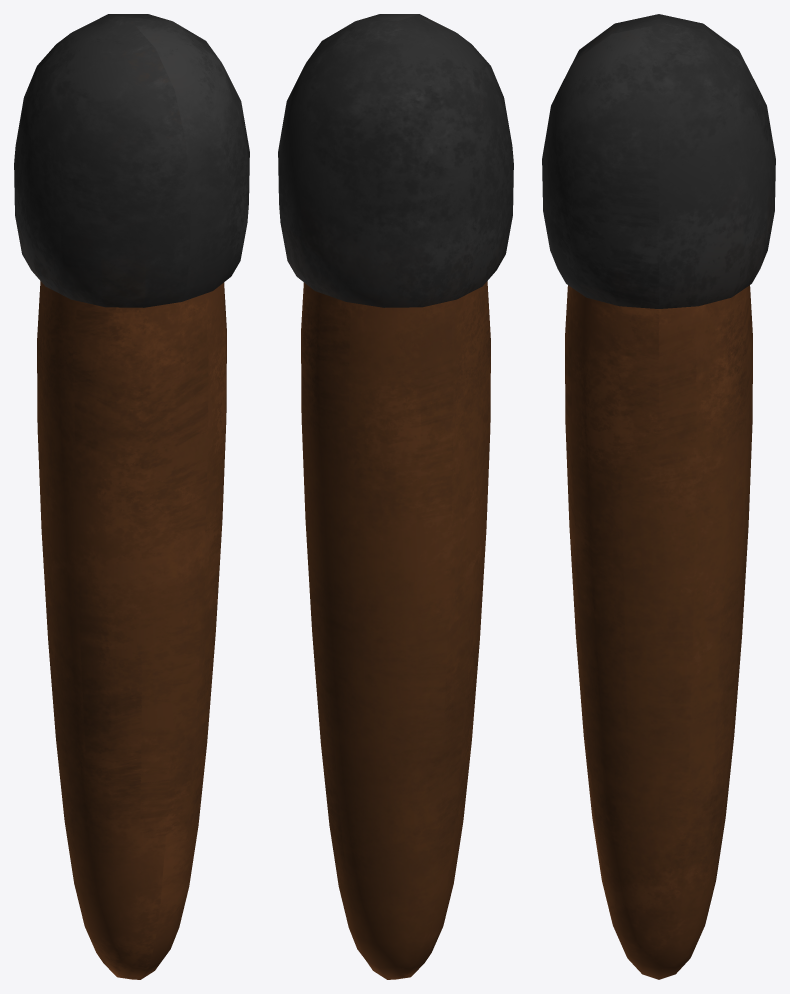
File: torch 1.fbx
3 views of the same model, side by side, from view 1: azimuth 30°, elevation 25°; view 2: azimuth 150°, elevation 25°; view 3: azimuth 270°, elevation 25° (orthographic).
Visible parts, largest first — view 1: torch_base, torch_flame; view 2: torch_base, torch_flame; view 3: torch_base, torch_flame.
Boxes of the visible parts, left/top/right/bottom form: torch_base: left=37, top=281, right=226, bottom=979; torch_flame: left=14, top=14, right=249, bottom=307; torch_base: left=301, top=281, right=490, bottom=979; torch_flame: left=278, top=14, right=513, bottom=307; torch_base: left=565, top=285, right=752, bottom=979; torch_flame: left=542, top=14, right=775, bottom=308.
Bounding box in the file's own units: 34.48 × 155 × 34.48.
1 material, 1 textured.
